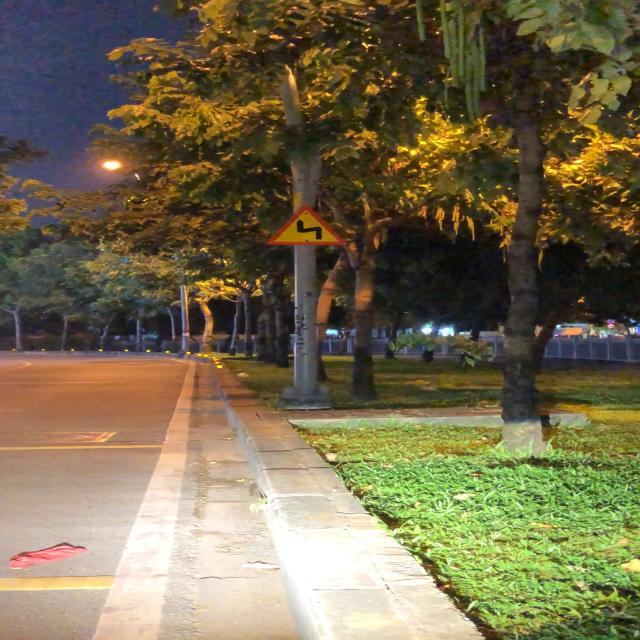Bien bao nhieu cho ngoat nguy hiem lien tiep: (264, 202, 348, 248)
